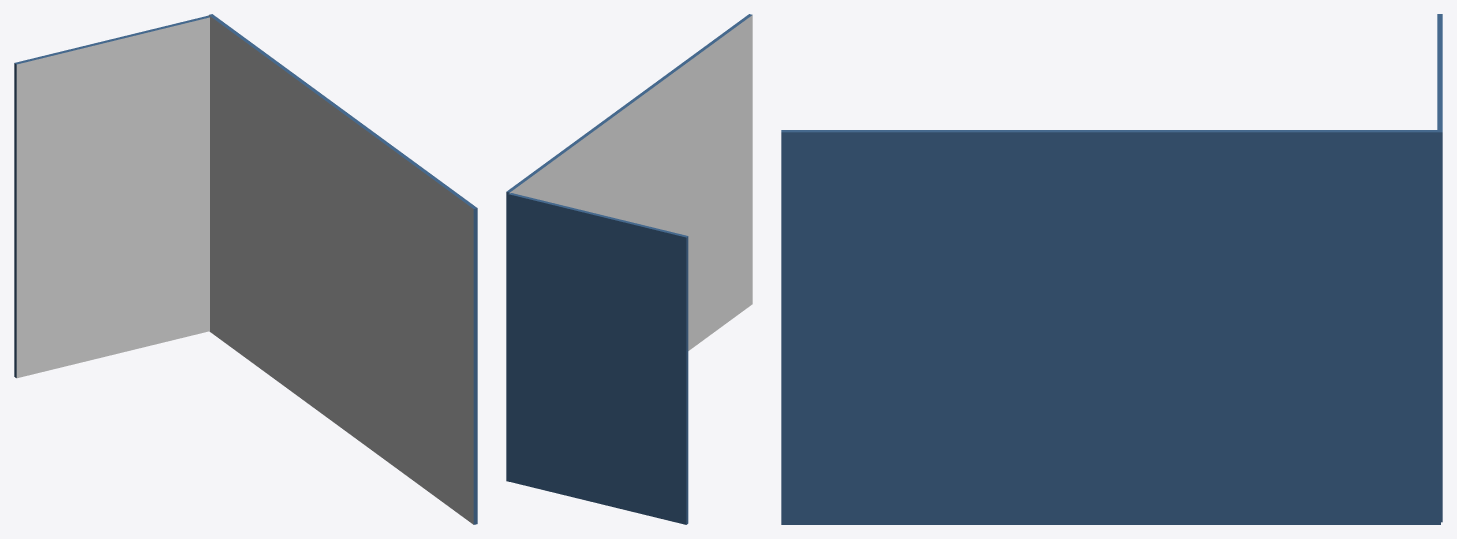
The model's file is bathroom-wall.glb.
3 renders of one model, left to right at view 1: azimuth 30°, elevation 25°; view 2: azimuth 150°, elevation 25°; view 3: azimuth 270°, elevation 25°, orthographic. The views are drawn at different scales.
Visible parts, largest first — view 1: backwall; view 2: backwall; view 3: backwall.
Boxes of the visible parts, x1,y1,x2,y2 form: backwall: (14,14,477,524); backwall: (506,14,752,524); backwall: (781,14,1442,524).
Size of the model in its own units: 5.07 by 7.75 by 11.83.
